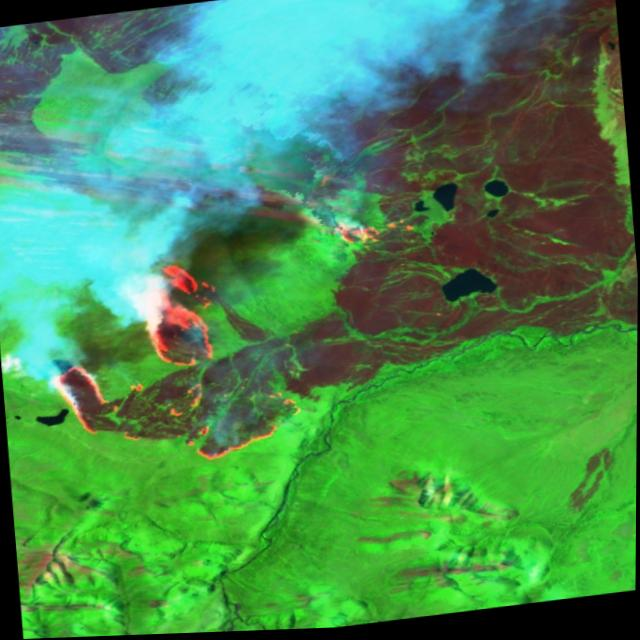fire: (36, 245, 315, 489), (323, 205, 422, 262)
